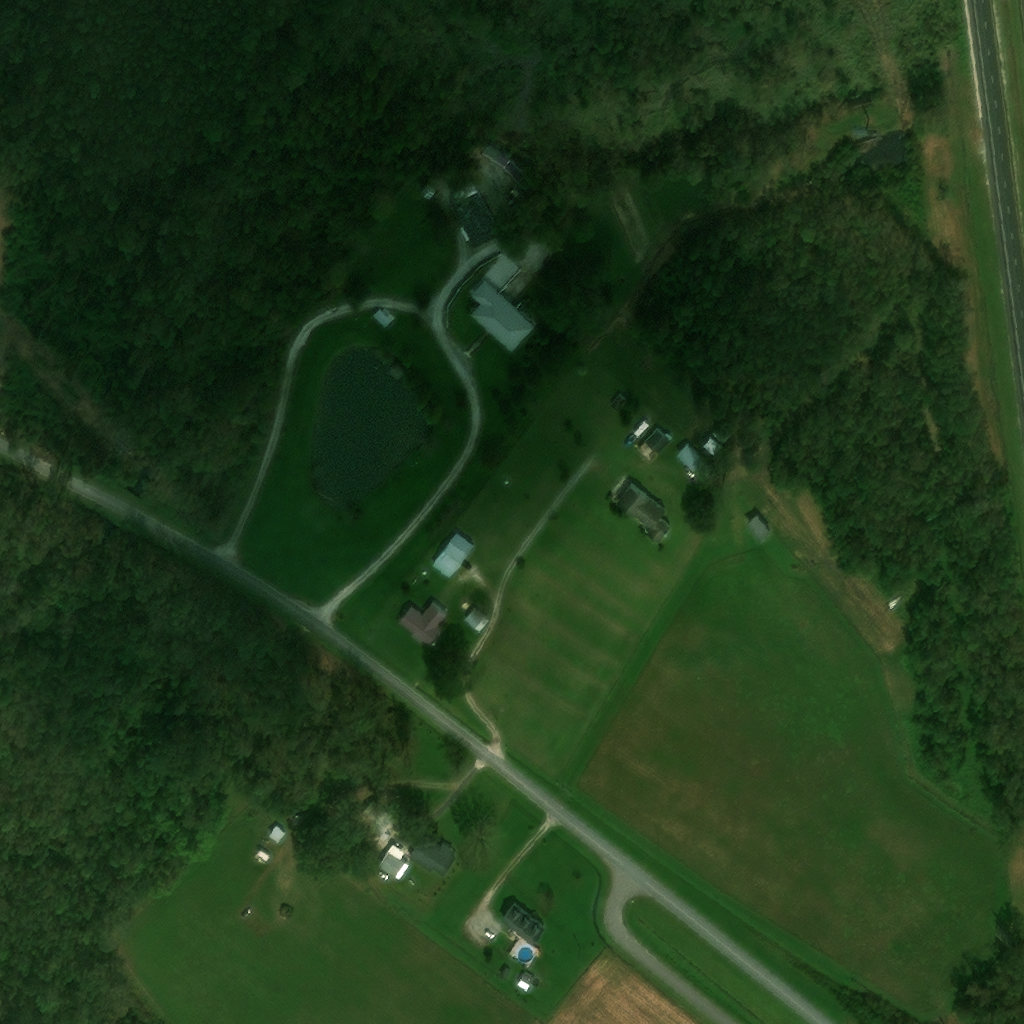no_damage: (466, 280, 533, 352), (614, 486, 671, 545), (448, 190, 500, 251), (399, 603, 448, 645), (432, 533, 475, 578), (500, 904, 545, 946), (408, 841, 457, 878), (673, 446, 711, 482), (633, 430, 670, 464), (377, 845, 409, 881), (743, 514, 771, 541), (478, 145, 507, 167), (466, 610, 490, 633), (448, 181, 474, 201), (501, 160, 523, 182), (371, 309, 392, 329), (709, 426, 730, 445), (516, 975, 536, 992), (267, 827, 284, 843), (418, 183, 435, 199), (609, 397, 624, 413), (500, 970, 512, 982)
unclassified: (288, 814, 302, 827)
